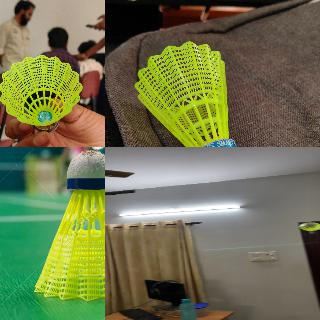shuttlecock: (135, 41, 244, 146), (33, 150, 104, 301), (0, 53, 82, 132), (299, 222, 319, 230)
